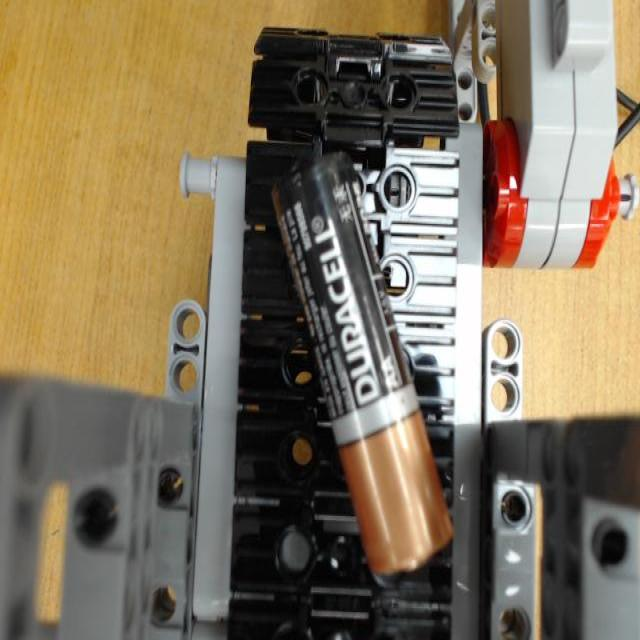AA: (268, 150, 448, 569)
